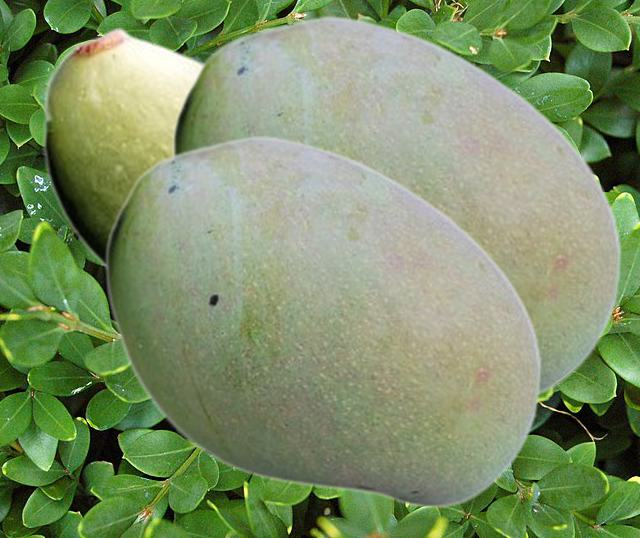green_mango: (171, 14, 621, 397), (104, 134, 541, 508), (42, 25, 203, 269)
